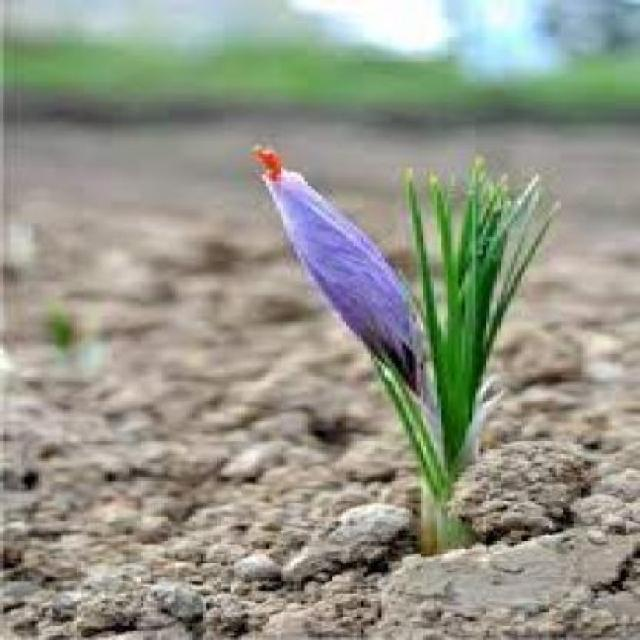Flower: (256, 150, 436, 399)
